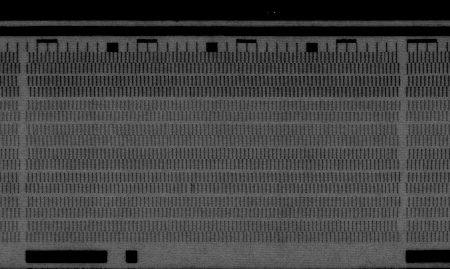Oblique printing: (183, 182, 196, 194)
